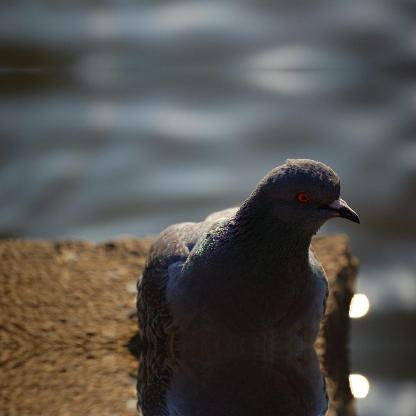Bird: (124, 154, 366, 344), (123, 347, 367, 415)
